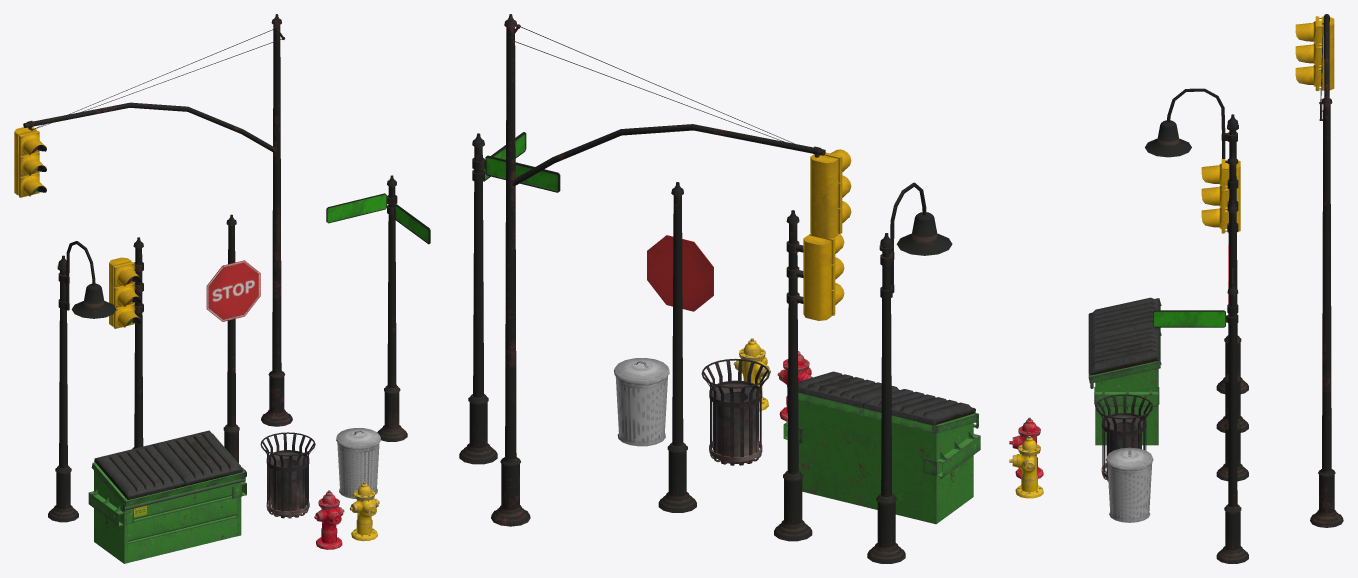
Rendered from street_city_props.fbx.
3 renders of one model, left to right at view 1: azimuth 30°, elevation 25°; view 2: azimuth 150°, elevation 25°; view 3: azimuth 270°, elevation 25°, orthographic. The views are drawn at different scales.
Visible parts, largest first — view 1: metal street props low poly.006, metal street props low poly, metal street props low poly.008, metal street props low poly.005, metal street props low poly.012, metal street props low poly.011, metal street props low poly.001, metal street props low poly.007, metal street props low poly.002, metal street props low poly.003; view 2: metal street props low poly.006, metal street props low poly, metal street props low poly.011, metal street props low poly.005, metal street props low poly.012, metal street props low poly.008, metal street props low poly.001, metal street props low poly.007, metal street props low poly.003; view 3: metal street props low poly.006, metal street props low poly, metal street props low poly.008, metal street props low poly.007, metal street props low poly.011, metal street props low poly.012, metal street props low poly.001, metal street props low poly.005, metal street props low poly.003, metal street props low poly.002.
Part boxes in pixels (x1,y1,x2,y2): metal street props low poly.006: (88, 430, 246, 563); metal street props low poly: (14, 14, 292, 426); metal street props low poly.008: (326, 175, 430, 441); metal street props low poly.005: (206, 214, 260, 479); metal street props low poly.012: (48, 241, 116, 522); metal street props low poly.011: (109, 237, 143, 448); metal street props low poly.001: (260, 432, 315, 518); metal street props low poly.007: (336, 428, 380, 498); metal street props low poly.002: (314, 490, 344, 549); metal street props low poly.003: (349, 481, 379, 541); metal street props low poly.006: (783, 371, 980, 524); metal street props low poly: (491, 14, 851, 526); metal street props low poly.011: (774, 210, 844, 541); metal street props low poly.005: (647, 182, 713, 512); metal street props low poly.012: (867, 182, 952, 563); metal street props low poly.008: (459, 132, 560, 464); metal street props low poly.001: (701, 358, 769, 465); metal street props low poly.007: (614, 358, 669, 446); metal street props low poly.003: (733, 338, 770, 411); metal street props low poly.006: (1088, 297, 1161, 445); metal street props low poly: (1295, 14, 1343, 527); metal street props low poly.008: (1153, 267, 1248, 563); metal street props low poly.007: (1106, 447, 1153, 522); metal street props low poly.011: (1201, 153, 1248, 432); metal street props low poly.012: (1145, 88, 1248, 393); metal street props low poly.001: (1095, 394, 1153, 481); metal street props low poly.005: (1216, 201, 1248, 481); metal street props low poly.003: (1009, 436, 1043, 498); metal street props low poly.002: (1009, 417, 1043, 478).
Bounding box in the file's own units: 518 × 555 × 394.
